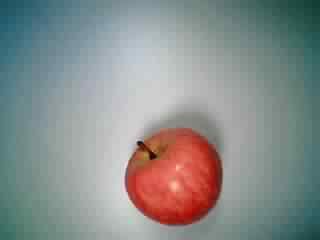apple: (122, 124, 226, 228)
